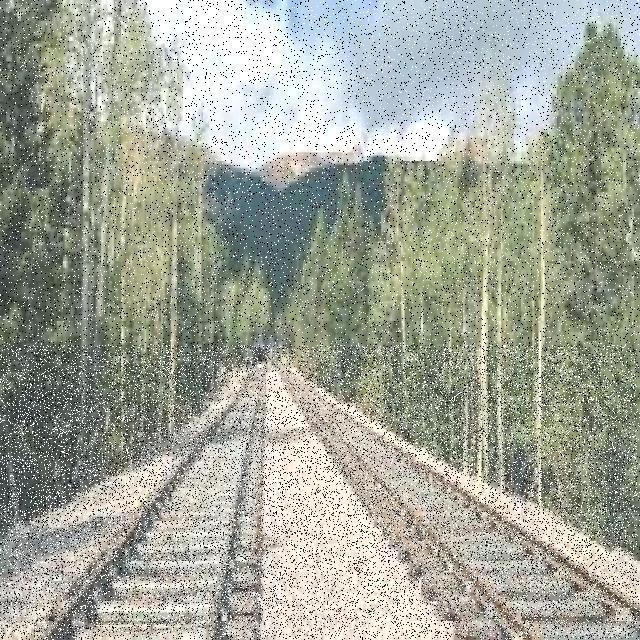rail: (1, 347, 638, 640)
